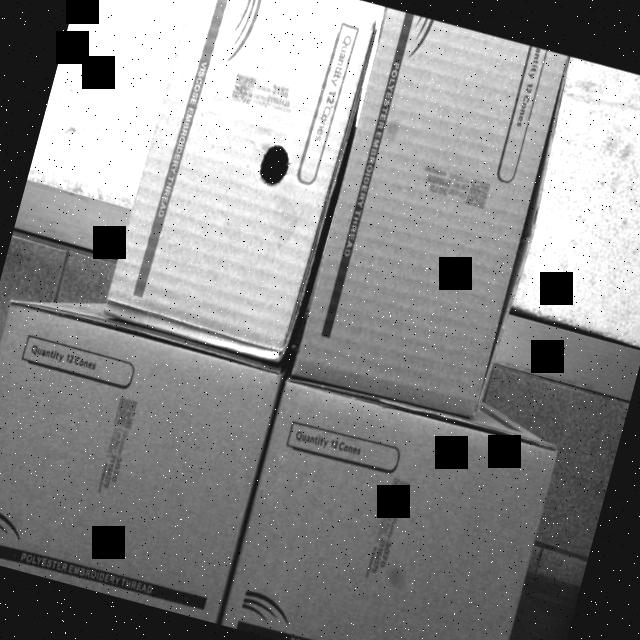box: (288, 7, 581, 426), (100, 0, 379, 369), (0, 291, 281, 622), (218, 375, 555, 640)
